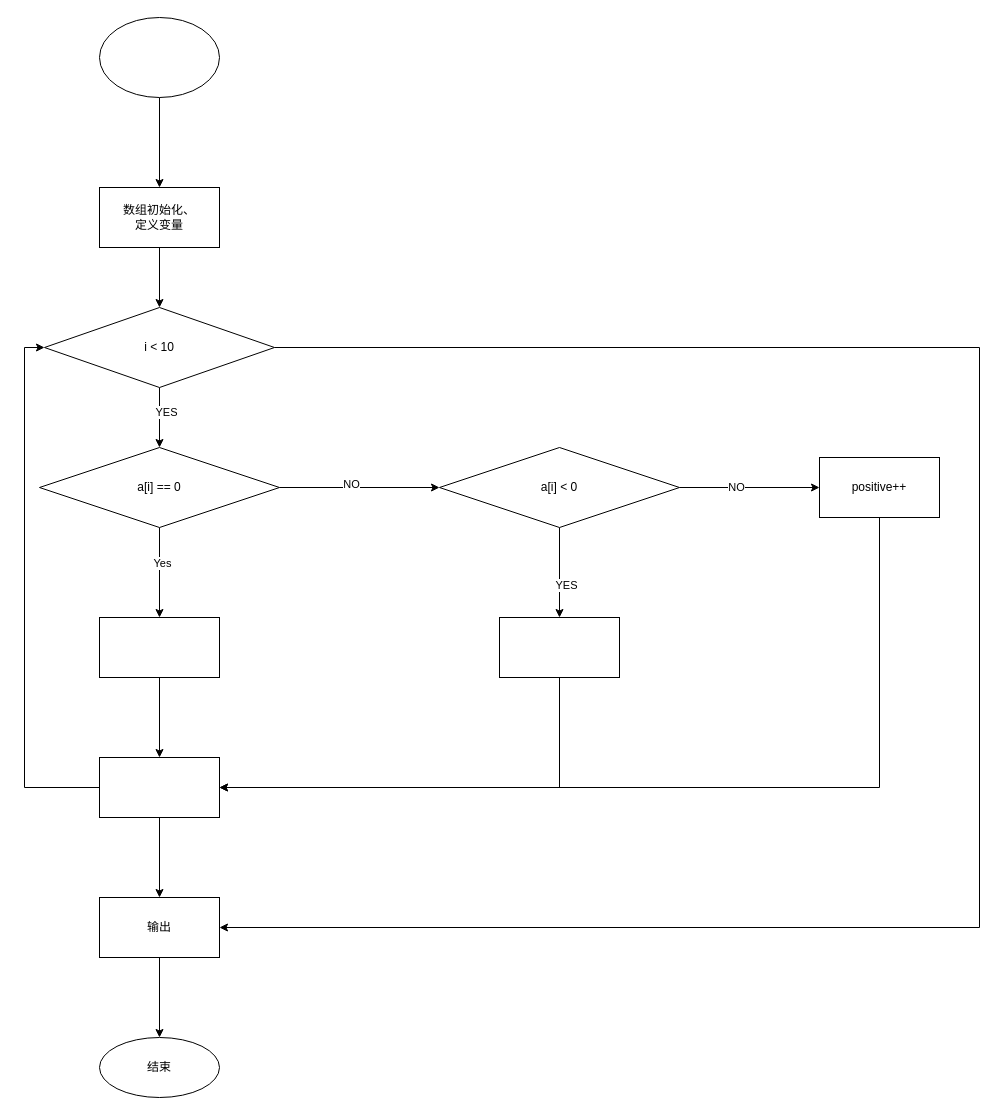
The diagram is 1005 pixels wide and 1115 high, and some of its shapes have lost their labels. Here are the shapes that lost their labels. From the top down, the centre of each, then its label:
point (159, 57): 开始
point (159, 647): zero++
point (559, 647): negitive++
point (159, 787): i++
